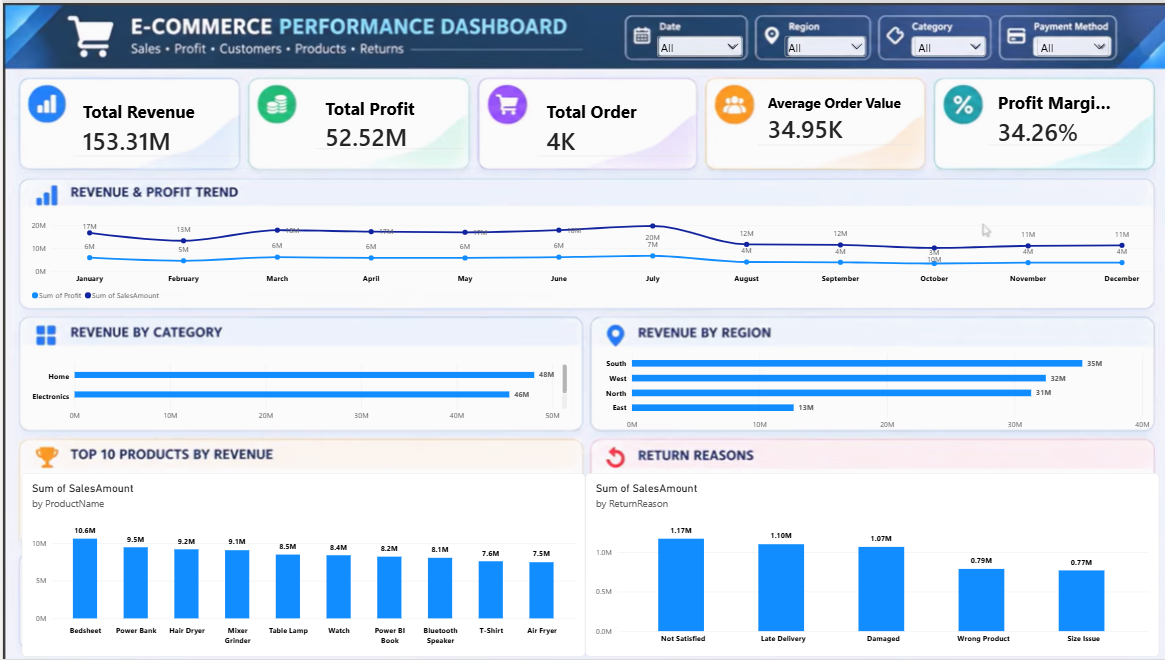

The page's visual inventory and layout, read from the dashboard file:
{"tool":"powerbi","page":{"name":"Page 1","canvas":[1920,1080],"ordinal":0},"visuals":[{"type":"cardVisual","fields":{"Data":["Measure Calculation.Total Revenue"]},"box":[115.3,162.6,282,177],"z":0},{"type":"cardVisual","fields":{"Data":["Measure Calculation.Profit Margine %"]},"box":[1622,150.3,230.5,166.7],"z":1000},{"type":"cardVisual","fields":{"Data":["Measure Calculation.Average Order Value"]},"box":[1243.2,150.3,253.2,166.7],"z":2000},{"type":"cardVisual","fields":{"Data":["Measure Calculation.Total Order"]},"box":[878.9,162.6,255.2,177],"z":3000},{"type":"cardVisual","fields":{"Data":["Measure Calculation.Total Profit"]},"box":[514.6,162.6,244.9,154.4],"z":4000},{"type":"slicer","fields":{"Values":["ecommerce_analytics orders.OrderDate.Variation.Date Hierarchy.Month"]},"box":[1072.4,49.4,150.3,43.2],"z":5000},{"type":"slicer","fields":{"Values":["ecommerce_analytics customers.Region"]},"box":[1282.3,49.4,144.1,43.2],"z":6000},{"type":"slicer","fields":{"Values":["ecommerce_analytics products.Category"]},"box":[1496.4,49.4,125.6,43.2],"z":7000},{"type":"slicer","fields":{"Values":["ecommerce_analytics orders.PaymentMethod"]},"box":[1698.1,49.4,127.6,43.2],"z":8000},{"type":"lineChart","fields":{"Category":["ecommerce_analytics orders.OrderDate.Variation.Date Hierarchy.Month"],"Y":["Sum(ecommerce_analytics orderdetails.Profit)","Sum(ecommerce_analytics orderdetails.SalesAmount)"]},"box":[30.9,339.6,1889.5,170.8],"z":9000},{"type":"clusteredBarChart","fields":{"Category":["ecommerce_analytics products.Category"],"Y":["Sum(ecommerce_analytics orderdetails.SalesAmount)"]},"box":[30.9,572.2,913.9,135.8],"z":10000},{"type":"clusteredBarChart","fields":{"Category":["ecommerce_analytics customers.Region"],"Y":["Measure Calculation.Total Revenue"]},"box":[975.6,555.7,928.3,166.7],"z":11000},{"type":"clusteredColumnChart","fields":{"Category":["ecommerce_analytics products.ProductName"],"Y":["Sum(ecommerce_analytics orderdetails.SalesAmount)"]},"box":[30.9,773.9,928.3,302.6],"z":12000},{"type":"clusteredColumnChart","fields":{"Category":["ecommerce_analytics returns.ReturnReason"],"Y":["Sum(ecommerce_analytics orderdetails.SalesAmount)"]},"box":[959.2,773.9,944.8,302.6],"z":13000}]}

Visuals, with their boxes in screenshot pixels (x1, y1, x2, y2), scaled from the page's 1920x1080 canvas onto the 1165x660 screenshot:
cardVisual - Measure Calculation.Total Revenue: {"x1": 70, "y1": 99, "x2": 241, "y2": 208}
cardVisual - Measure Calculation.Profit Margine %: {"x1": 984, "y1": 92, "x2": 1124, "y2": 194}
cardVisual - Measure Calculation.Average Order Value: {"x1": 754, "y1": 92, "x2": 908, "y2": 194}
cardVisual - Measure Calculation.Total Order: {"x1": 533, "y1": 99, "x2": 688, "y2": 208}
cardVisual - Measure Calculation.Total Profit: {"x1": 312, "y1": 99, "x2": 461, "y2": 194}
slicer - ecommerce_analytics orders.OrderDate.Variation.Date Hierarchy.Month: {"x1": 651, "y1": 30, "x2": 742, "y2": 57}
slicer - ecommerce_analytics customers.Region: {"x1": 778, "y1": 30, "x2": 865, "y2": 57}
slicer - ecommerce_analytics products.Category: {"x1": 908, "y1": 30, "x2": 984, "y2": 57}
slicer - ecommerce_analytics orders.PaymentMethod: {"x1": 1030, "y1": 30, "x2": 1108, "y2": 57}
lineChart - ecommerce_analytics orders.OrderDate.Variation.Date Hierarchy.Month x Sum(ecommerce_analytics orderdetails.Profit): {"x1": 19, "y1": 208, "x2": 1164, "y2": 312}
clusteredBarChart - ecommerce_analytics products.Category x Sum(ecommerce_analytics orderdetails.SalesAmount): {"x1": 19, "y1": 350, "x2": 573, "y2": 433}
clusteredBarChart - ecommerce_analytics customers.Region x Measure Calculation.Total Revenue: {"x1": 592, "y1": 340, "x2": 1155, "y2": 441}
clusteredColumnChart - ecommerce_analytics products.ProductName x Sum(ecommerce_analytics orderdetails.SalesAmount): {"x1": 19, "y1": 473, "x2": 582, "y2": 658}
clusteredColumnChart - ecommerce_analytics returns.ReturnReason x Sum(ecommerce_analytics orderdetails.SalesAmount): {"x1": 582, "y1": 473, "x2": 1155, "y2": 658}
